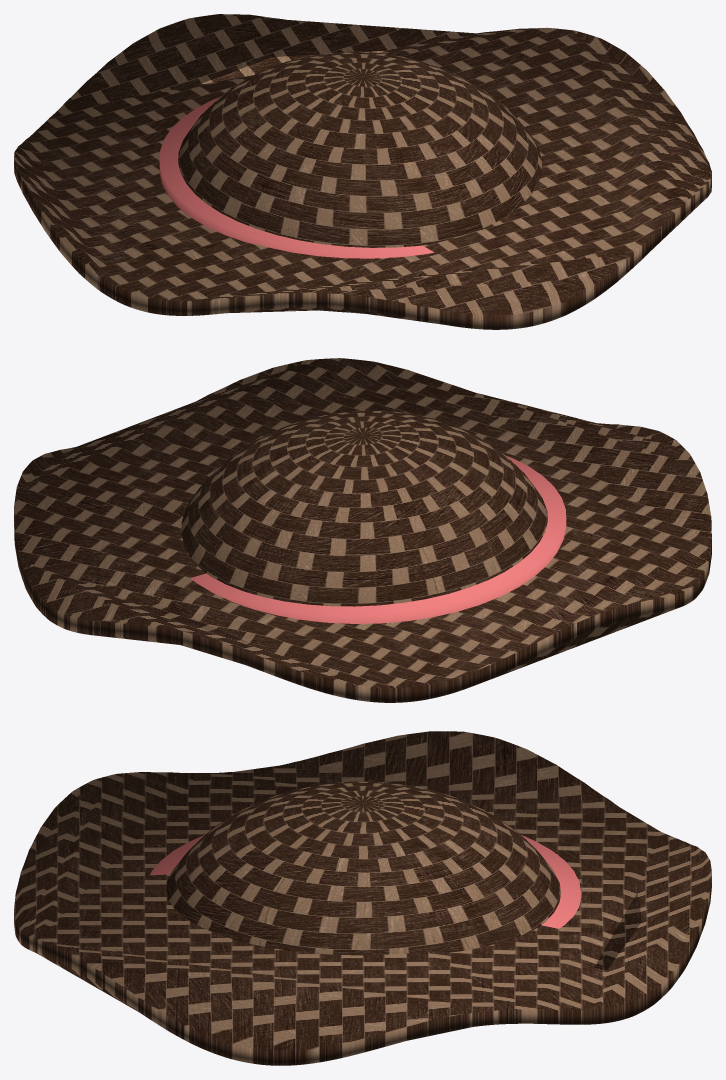
File: strawhat_red.glb
The picture shows the model from 3 angles, top to bottom: view 1: azimuth 30°, elevation 25°; view 2: azimuth 150°, elevation 25°; view 3: azimuth 270°, elevation 25°; orthographic projection.
Parts seen in each view (by area): view 1: Sphere; view 2: Sphere; view 3: Sphere.
Boxes of the visible parts, <box> form: Sphere: <box>14,14,711,329</box>; Sphere: <box>14,358,711,702</box>; Sphere: <box>14,731,711,1065</box>.
Bounding box in the file's own units: 0.54 × 0.12 × 0.54.
3 materials, 2 textured.
